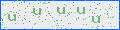u: (33, 8, 41, 16), (57, 7, 65, 15), (77, 7, 85, 15), (92, 16, 100, 24), (8, 14, 16, 21)
